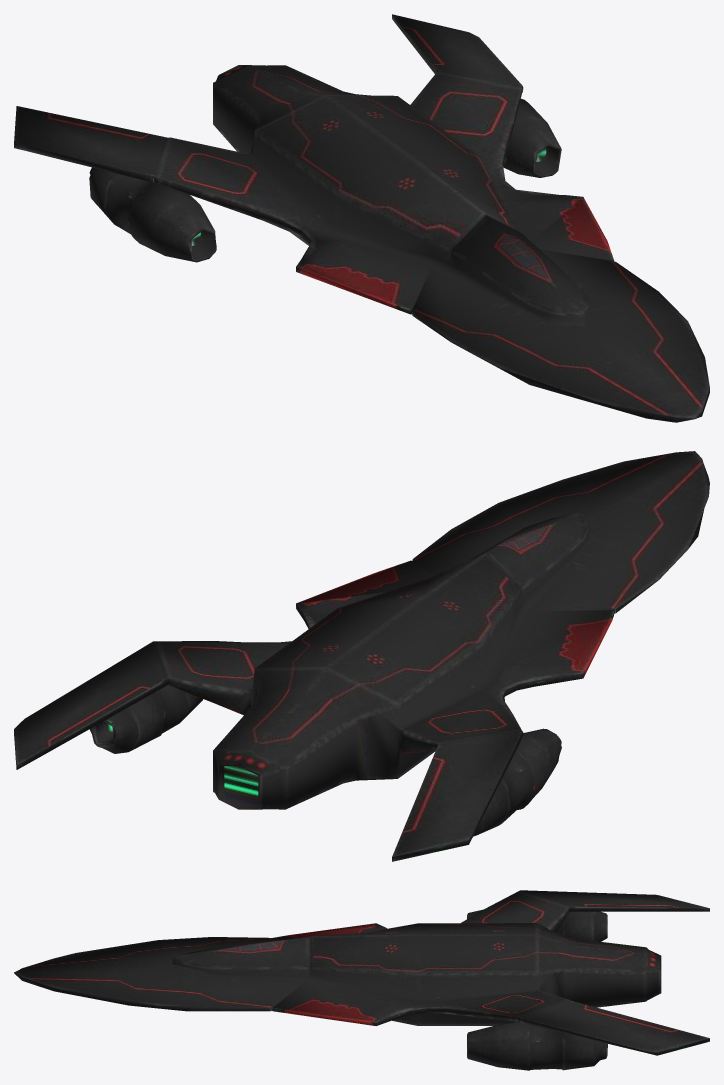
Rendered from warship.glb.
3 views of the same model, one above another, from view 1: azimuth 30°, elevation 25°; view 2: azimuth 150°, elevation 25°; view 3: azimuth 270°, elevation 25° (orthographic). The views are drawn at different scales.
Parts seen in each view (by area): view 1: Cube.001; view 2: Cube.001; view 3: Cube.001.
Boxes of the visible parts, x1,y1,x2,y2 form: Cube.001: (14, 14, 709, 422); Cube.001: (14, 451, 709, 861); Cube.001: (14, 890, 709, 1070).
Bounding box in the file's own units: 1.07 × 0.2521 × 2.
1 material, 1 textured.
